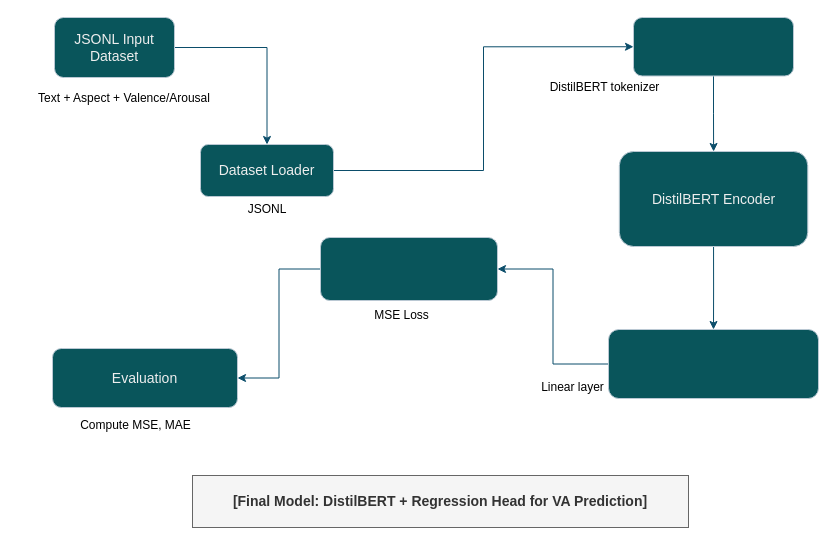
Image size: 836x545. Some labels were removed from this diagram. The centre of each missing label's shape, as x and y in pixels:
"Regression Head" belongs at point (713, 363).
"Tokenization" belongs at point (713, 46).
"Training Loop" belongs at point (409, 268).
